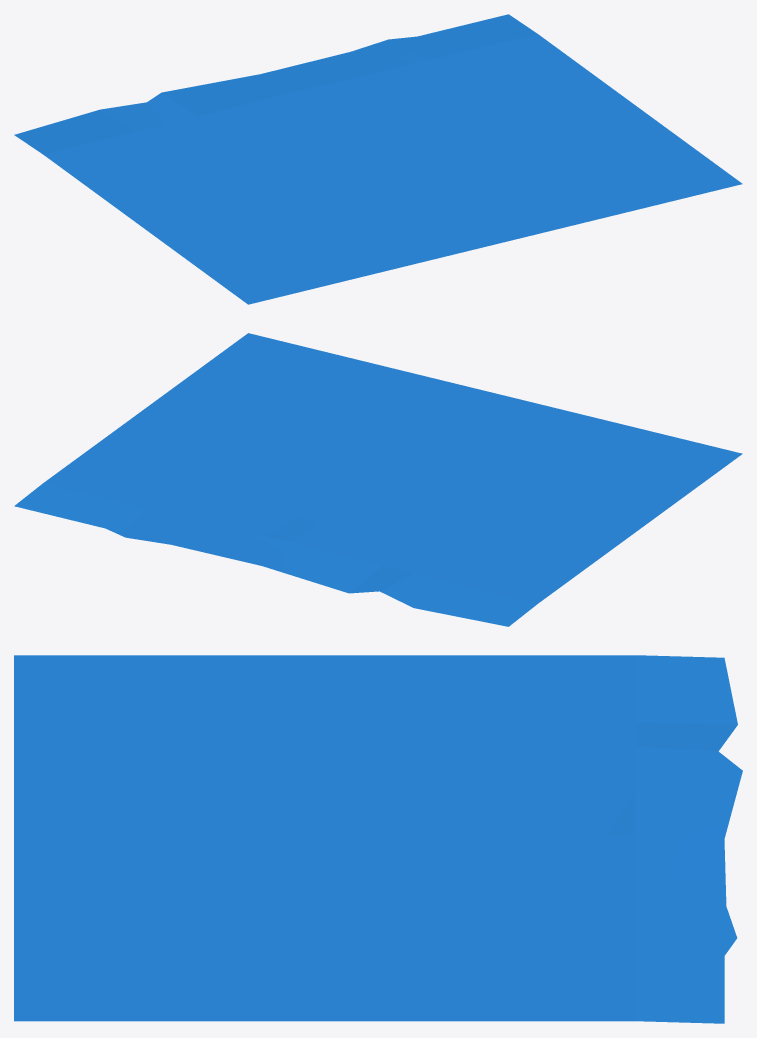
Rendered from agua.fbx.
The picture shows the model from 3 angles, top to bottom: view 1: azimuth 30°, elevation 25°; view 2: azimuth 150°, elevation 25°; view 3: azimuth 270°, elevation 25°; orthographic projection. The views are drawn at different scales.
Visible parts, largest first — view 1: Plane.002; view 2: Plane.002; view 3: Plane.002.
Boxes of the visible parts, box(x1,y1,x2,y2) form: Plane.002: box(14, 14, 742, 304); Plane.002: box(14, 333, 742, 626); Plane.002: box(14, 655, 742, 1023).
Bounding box in the file's own units: 104937 × 633 × 88317.
